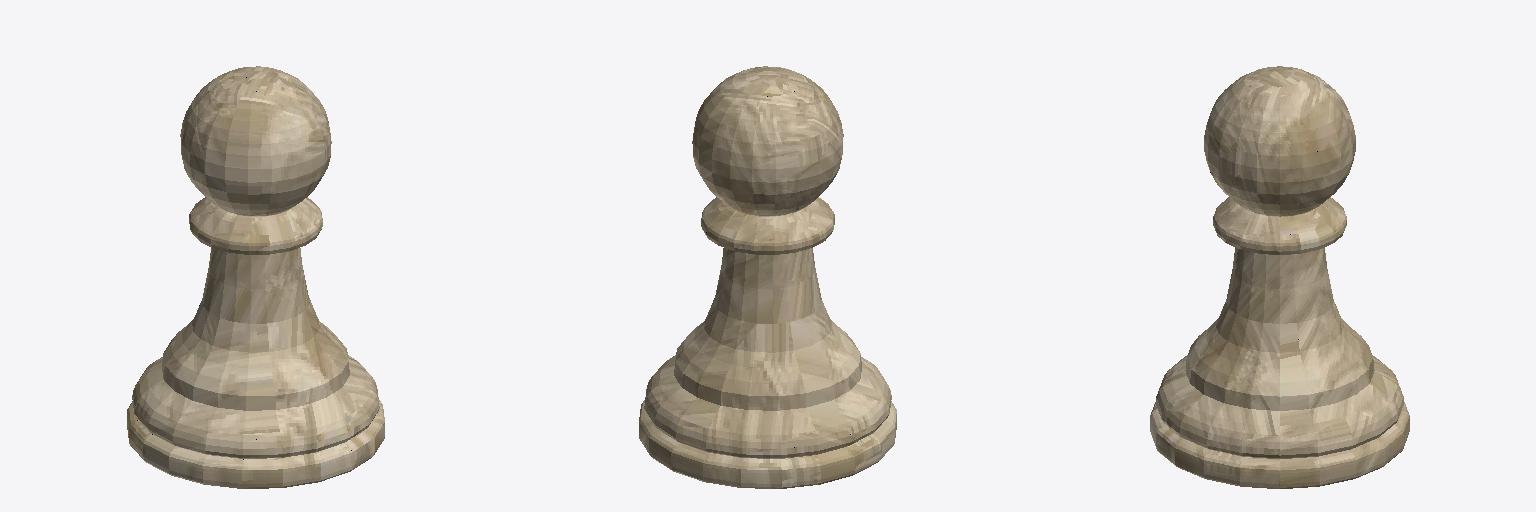
3 views of the same model, side by side, from view 1: azimuth 30°, elevation 25°; view 2: azimuth 150°, elevation 25°; view 3: azimuth 270°, elevation 25° (orthographic).
Parts seen in each view (by area): view 1: pawn_w_1; view 2: pawn_w_1; view 3: pawn_w_1.
Boxes of the visible parts, <box> form: pawn_w_1: <box>127,66,384,488</box>; pawn_w_1: <box>639,66,896,488</box>; pawn_w_1: <box>1150,66,1409,488</box>.
Size of the model in its own units: 2.73 by 4.2 by 2.73.
1 materials, 1 textured.